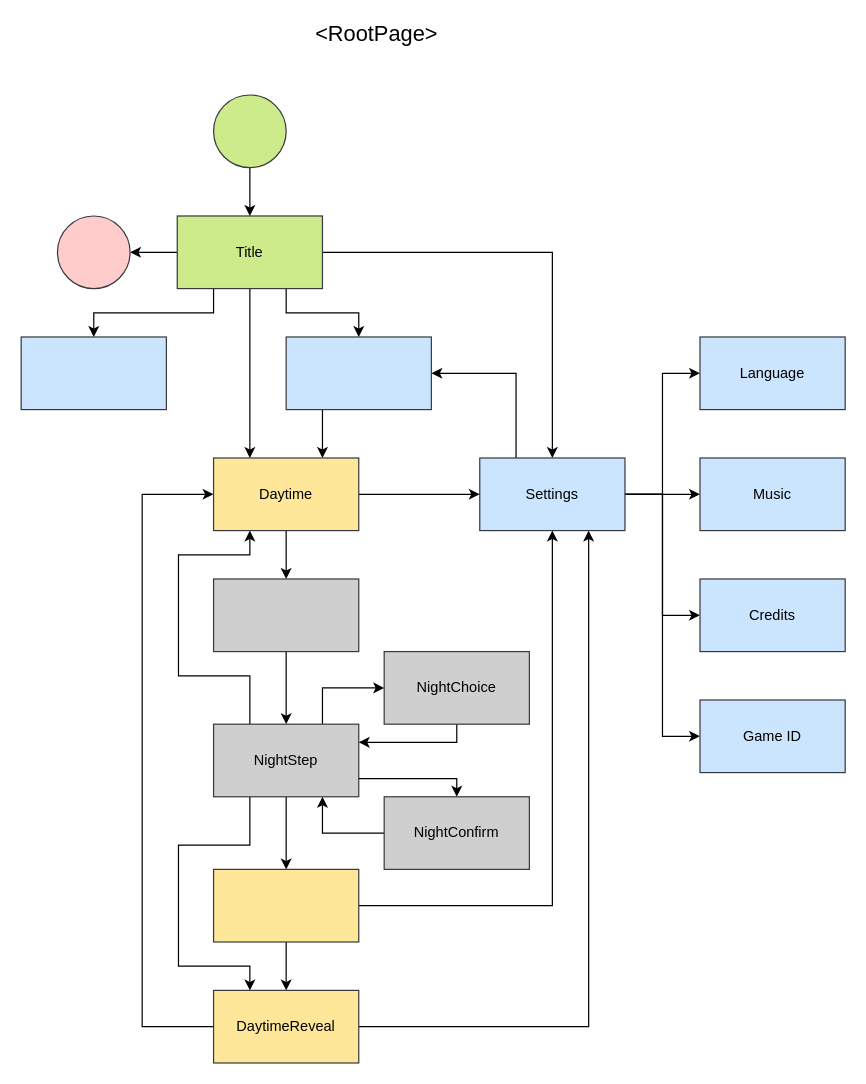
The diagram is 866 pixels wide and 1084 high, and some of its shapes have lost their labels. The shapes that lost their labels are listed below. From the top down, each one's centre as x and y in pixels, then its label:
At point (249, 131): "Start".
At point (93, 252): "Exit".
At point (93, 373): "Join Game".
At point (358, 373): "Players".
At point (285, 615): "NightScenario".
At point (285, 905): "DaytimeConfess".
